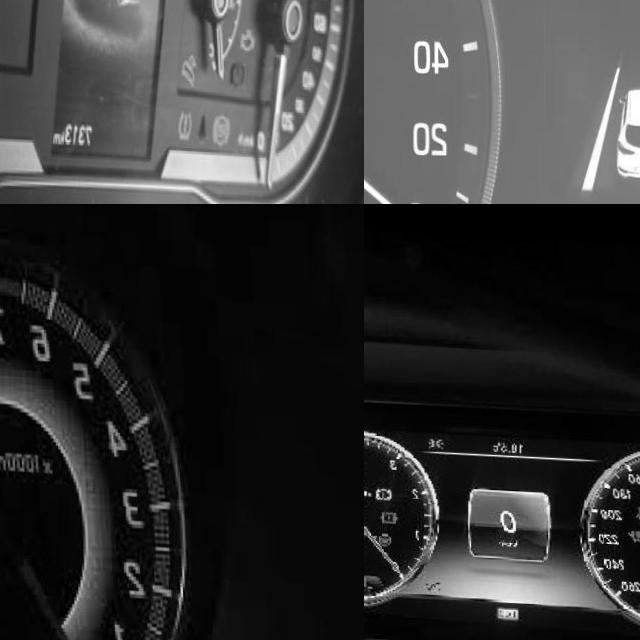Electronic Power Steering: (370, 525, 397, 548)
High Engine Coolant Temperature: (364, 575, 373, 590)
Seat Belt: (194, 106, 211, 148)
